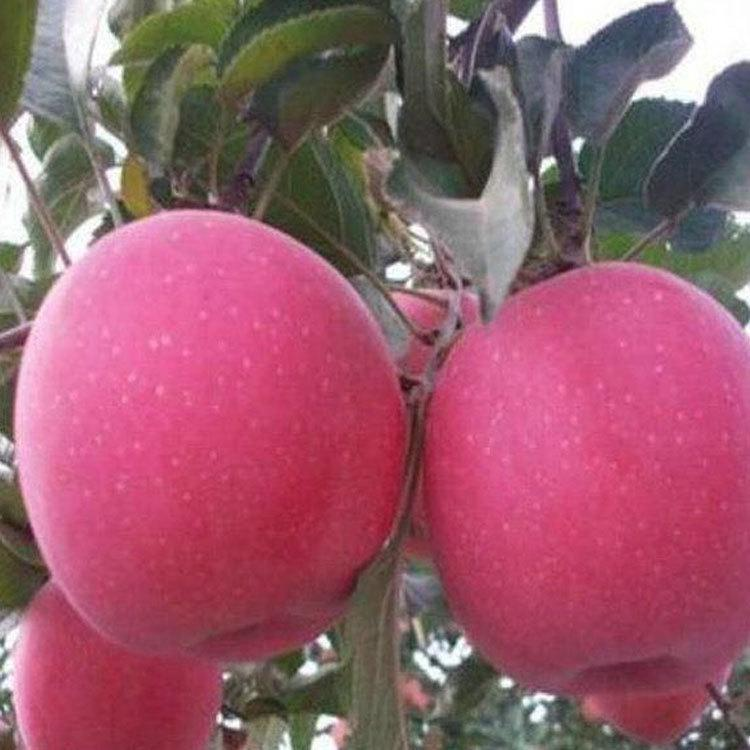apple: (11, 208, 413, 657), (419, 253, 744, 732), (11, 583, 220, 750)
